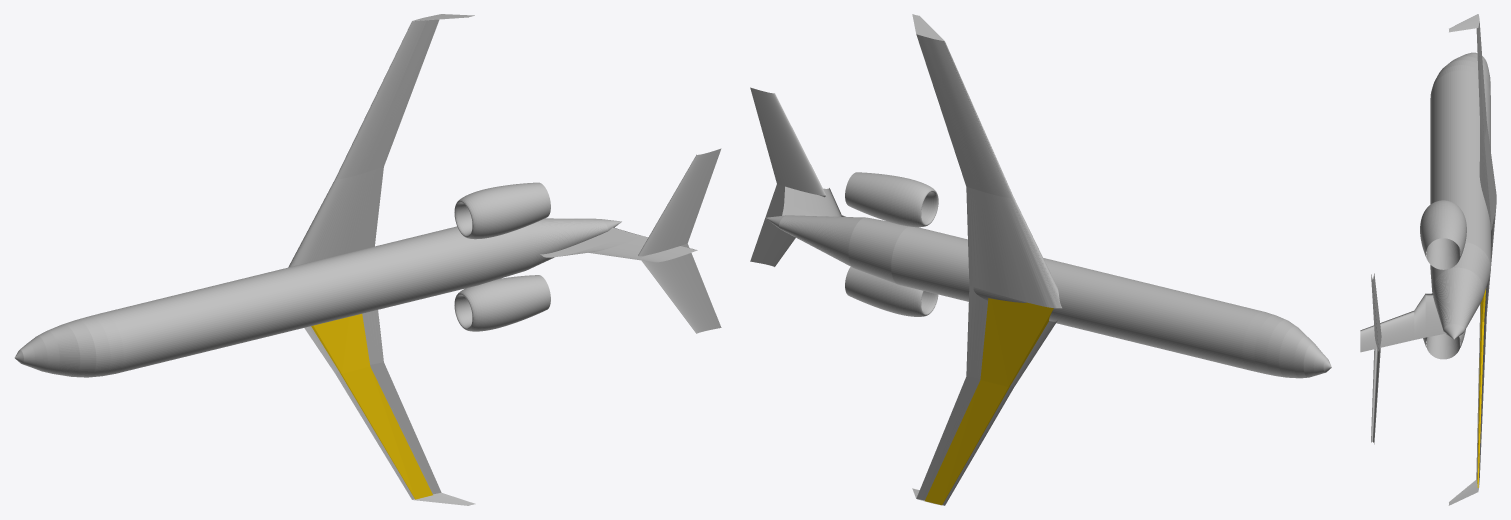
Rendered from Bombardier_CRJ_700.gltf.
3 renders of one model, left to right at view 1: azimuth 30°, elevation 25°; view 2: azimuth 150°, elevation 25°; view 3: azimuth 270°, elevation 25°, orthographic. The views are drawn at different scales.
Visible parts, largest first — view 1: Renderer Node; view 2: Renderer Node; view 3: Renderer Node.
Boxes of the visible parts, left/top/right/bottom form: Renderer Node: left=14, top=14, right=721, bottom=505; Renderer Node: left=750, top=14, right=1331, bottom=505; Renderer Node: left=1360, top=14, right=1496, bottom=505.
Bounding box in the file's own units: 32.53 × 23.25 × 6.07.
